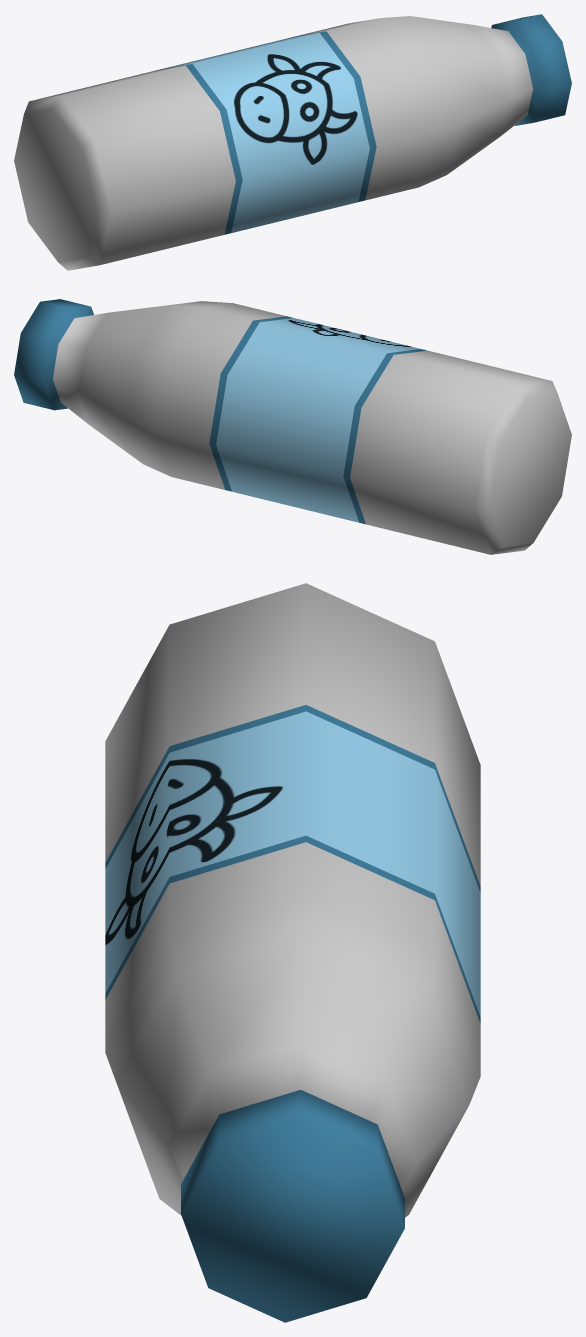
File: leite1.1.fbx
3 views of the same model, one above another, from view 1: azimuth 30°, elevation 25°; view 2: azimuth 150°, elevation 25°; view 3: azimuth 270°, elevation 25° (orthographic). The views are drawn at different scales.
Parts seen in each view (by area): view 1: garrafa de leite.001; view 2: garrafa de leite.001; view 3: garrafa de leite.001.
Part boxes in pixels (x1,y1,x2,y2): garrafa de leite.001: (14,14,571,270); garrafa de leite.001: (14,299,571,554); garrafa de leite.001: (105,583,480,1322).
Bounding box in the file's own units: 67.52 × 22.45 × 22.45.
Materials: 1 (1 with a texture image).
